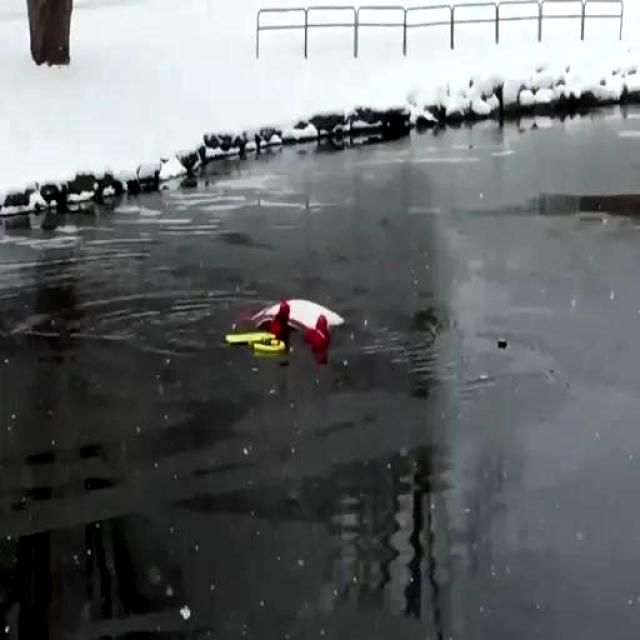rescuer: (294, 306, 342, 369), (253, 298, 300, 352)
